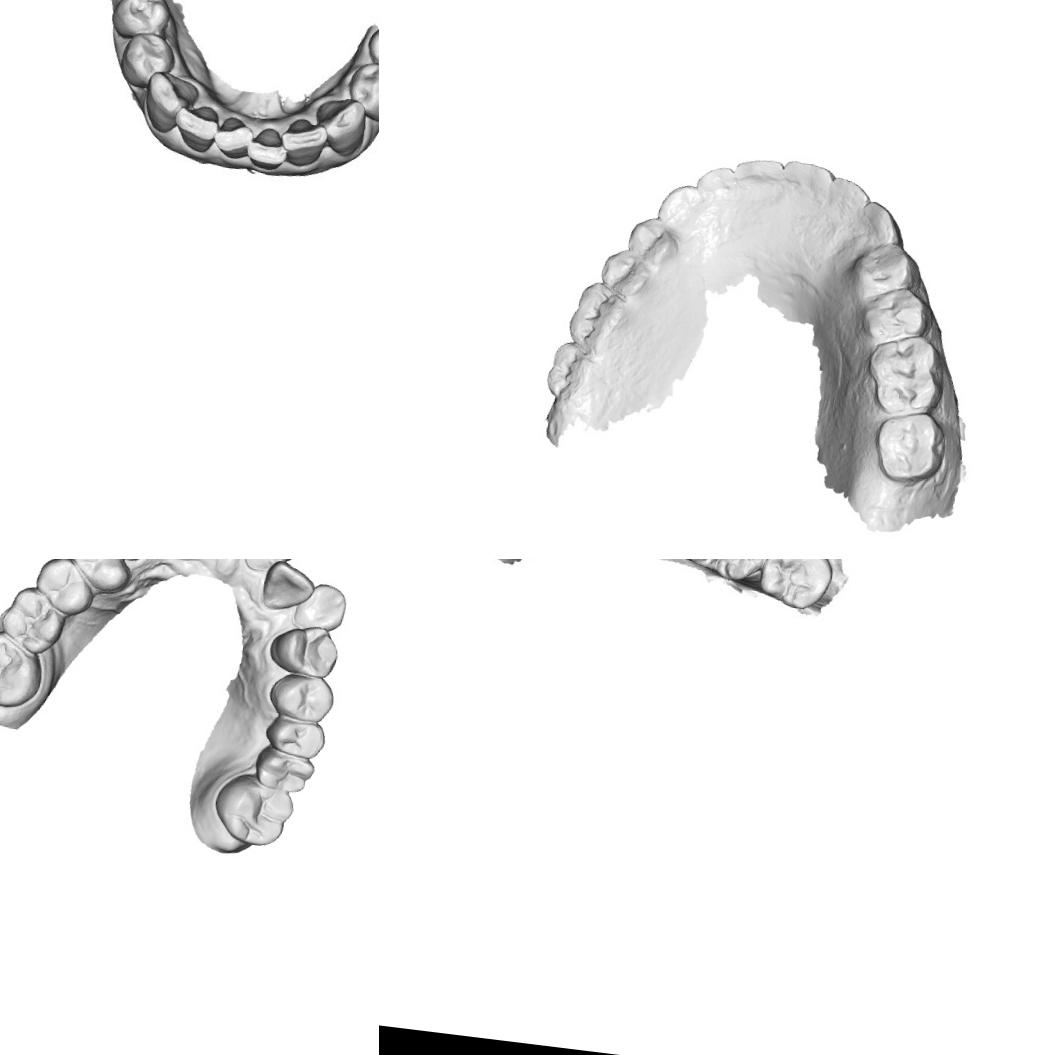canine: (266, 620, 342, 681), (140, 68, 200, 136), (654, 180, 710, 236), (857, 198, 909, 248), (318, 96, 363, 148)
incisor: (258, 559, 319, 616), (290, 579, 350, 635), (730, 153, 786, 196), (176, 104, 224, 153), (780, 156, 836, 196), (282, 122, 330, 168), (212, 113, 254, 164), (826, 172, 873, 216), (692, 162, 736, 207), (250, 125, 288, 171), (239, 559, 313, 579)
molar: (860, 329, 948, 422), (209, 770, 298, 851), (870, 407, 950, 487), (0, 582, 68, 658), (562, 276, 633, 348), (540, 337, 610, 406), (753, 559, 837, 613), (0, 627, 47, 713), (252, 744, 318, 796), (679, 559, 775, 586)
premolar: (846, 234, 927, 304), (857, 280, 936, 350), (31, 559, 100, 620), (266, 671, 338, 724), (623, 214, 684, 271), (262, 712, 328, 762), (597, 245, 654, 299), (64, 559, 136, 596), (122, 32, 172, 80), (114, 0, 169, 39), (350, 63, 379, 118)
